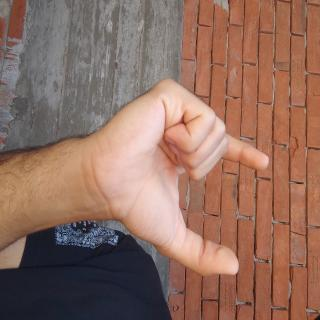NOON: (55, 58, 213, 310)
